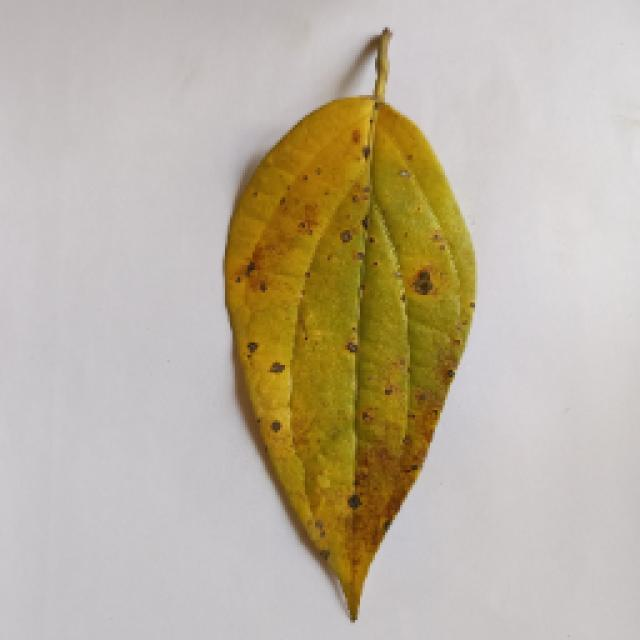slow-decline: (220, 35, 478, 620)
